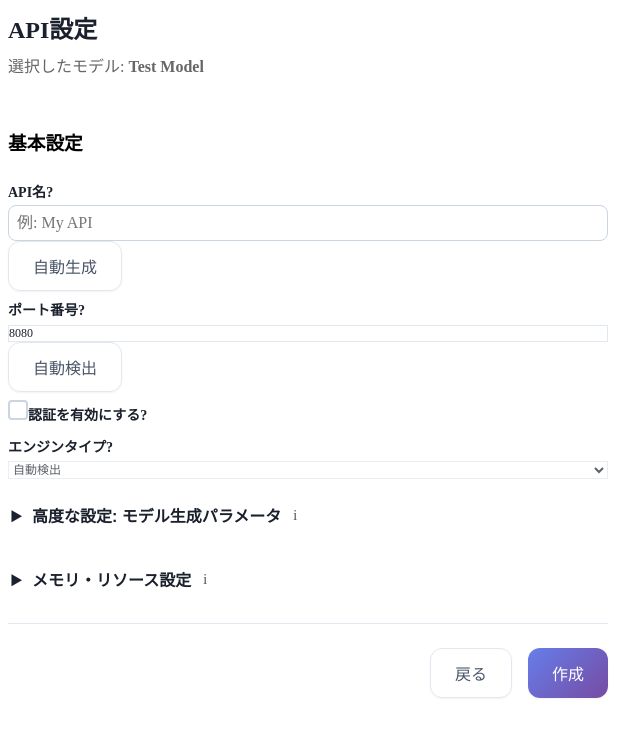
ApiConfigForm.tsx › バリデーション › API名が空の場合、エラーメッセージを表示する
Step 1. Click the button "作成" → point(568, 673), box [528, 648, 608, 698]
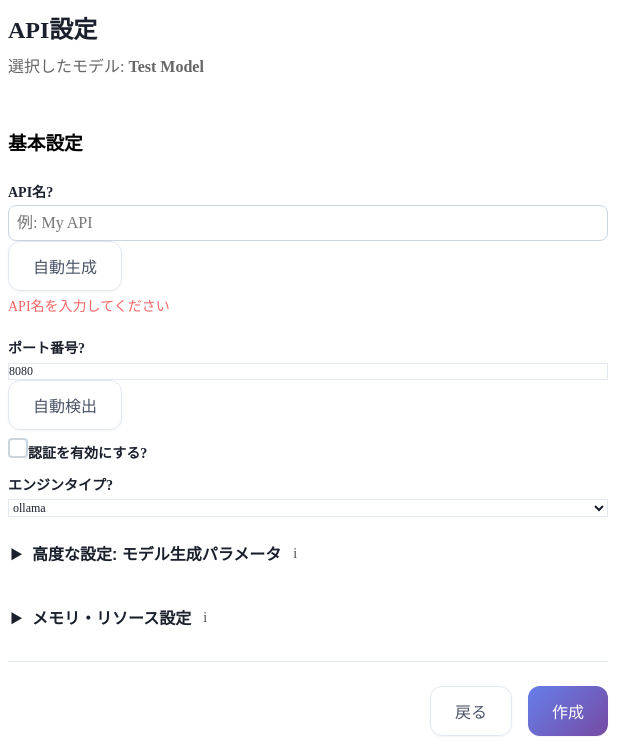
Now the text "API名を入力してください" is shown, box [8, 299, 170, 314]
